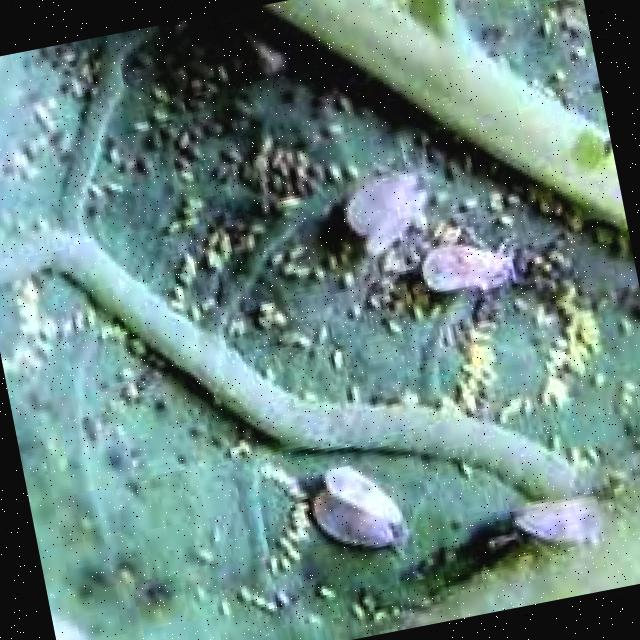whitefly: (288, 402, 632, 614), (312, 120, 534, 338)
